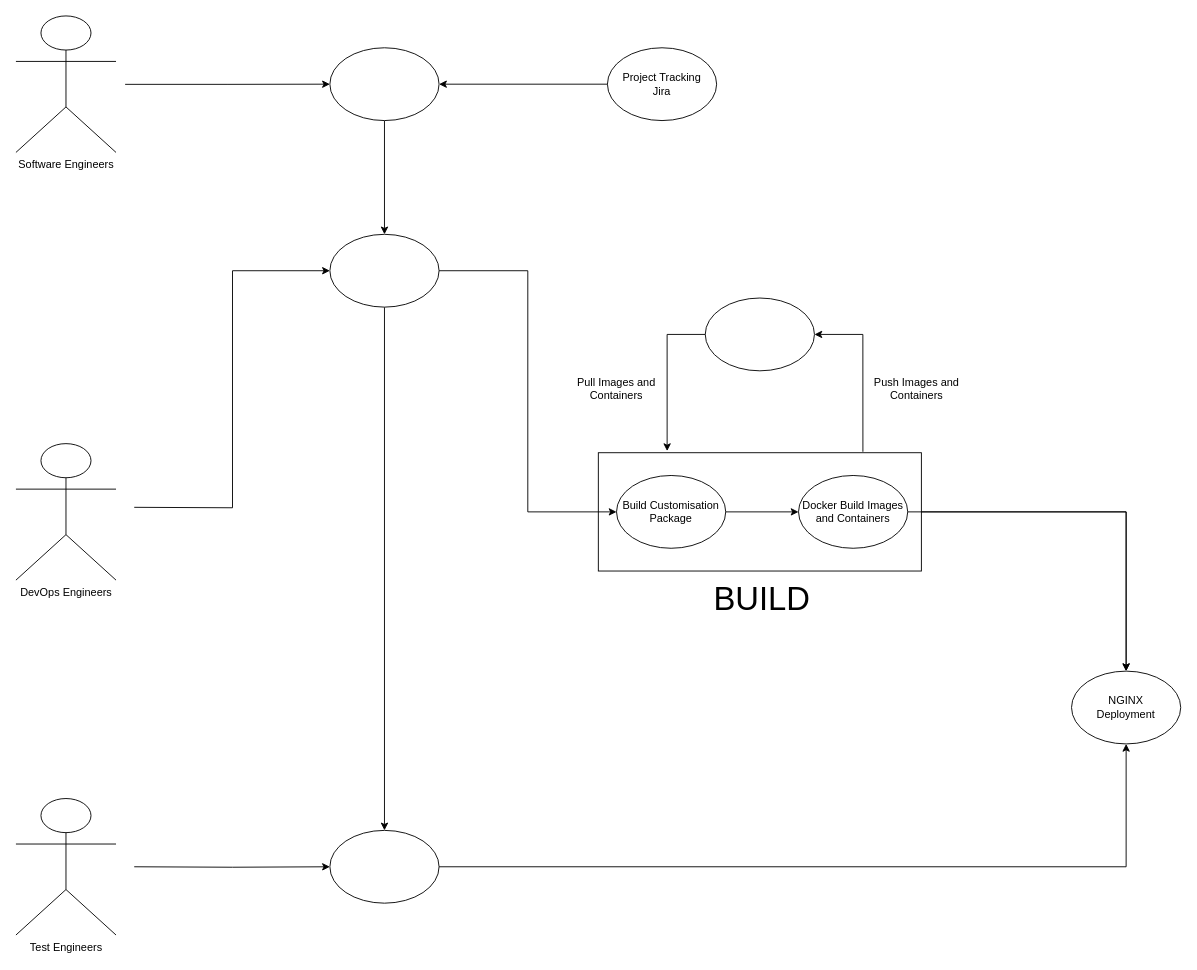
The diagram is 1197 pixels wide and 970 high, and some of its shapes have lost their labels. Each missing label, with the centre of its shape:
Docker Registry: the point at 759,334
GitHub Source-Code Repository: the point at 384,270
Python Source Code: the point at 384,84
Testing Environment Pytest: the point at 384,866
